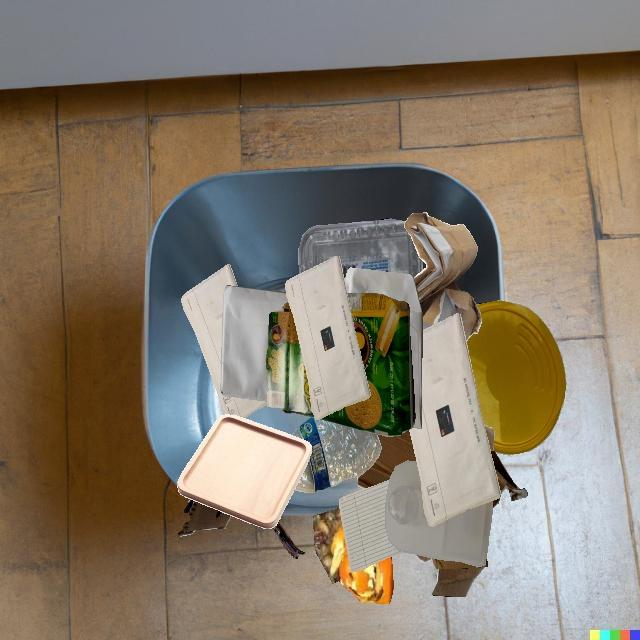biowaste: (313, 508, 394, 603)
cardboard: (320, 293, 415, 436), (394, 462, 519, 563), (416, 431, 487, 573), (404, 213, 482, 342), (266, 301, 315, 418), (178, 499, 231, 537), (272, 520, 307, 559)
combustible waste: (177, 414, 312, 529)
metal: (379, 218, 393, 220)
paper: (409, 314, 501, 526), (285, 256, 370, 420), (181, 265, 267, 418), (344, 267, 422, 428), (220, 285, 288, 401), (339, 480, 405, 572)
plastic: (466, 300, 566, 455), (385, 461, 493, 566), (298, 219, 423, 280), (292, 417, 382, 493)
